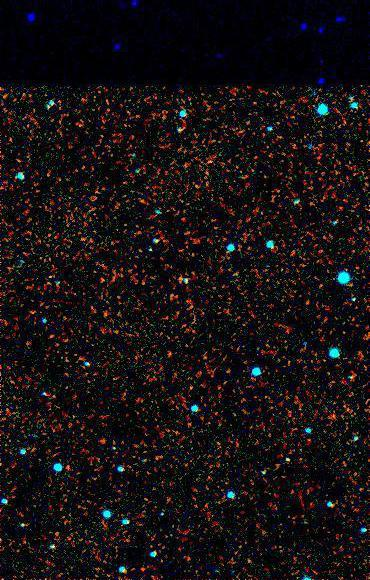star: (216, 187, 246, 217)
